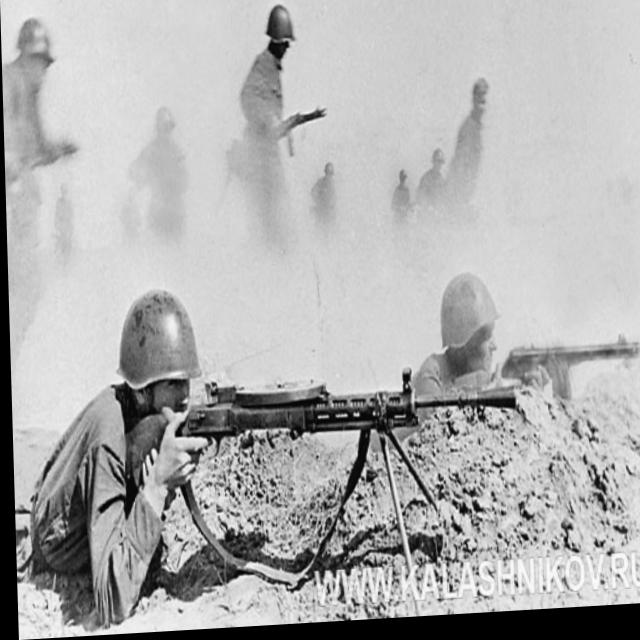other: (28, 291, 205, 611), (1, 24, 59, 299), (238, 8, 303, 249), (406, 278, 505, 400), (137, 110, 187, 251), (446, 80, 494, 221), (411, 151, 451, 221), (310, 161, 338, 231), (387, 175, 413, 227)
